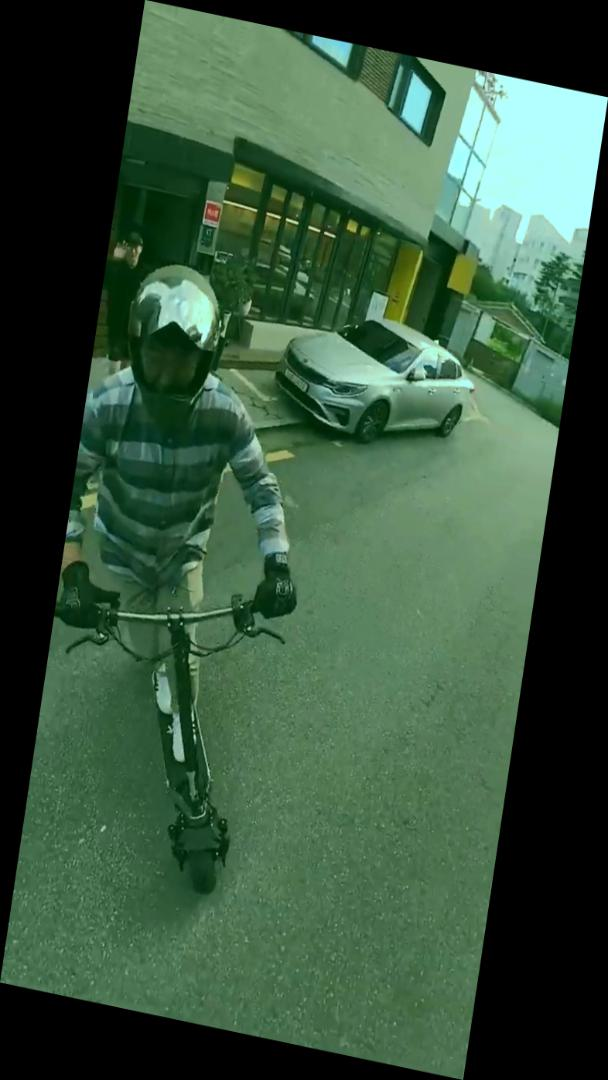helmet: (19, 247, 346, 905)
